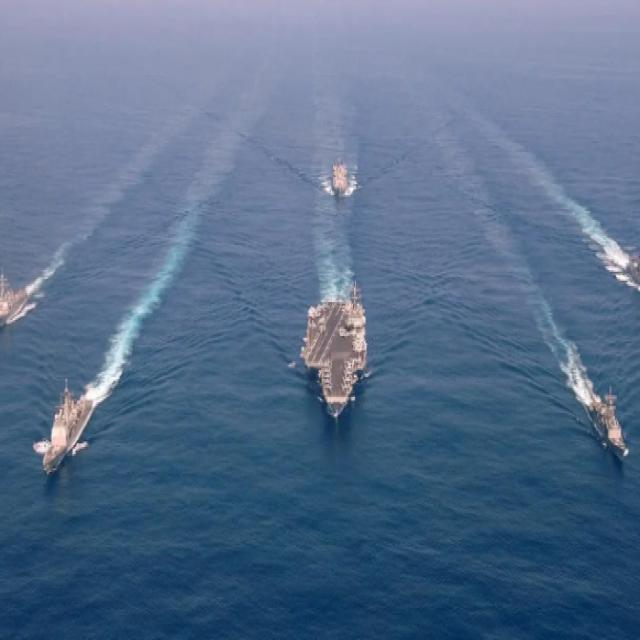navalvessels: (300, 265, 369, 415), (36, 382, 100, 482), (576, 374, 626, 471), (0, 270, 30, 336), (326, 144, 355, 190), (626, 239, 640, 300)
